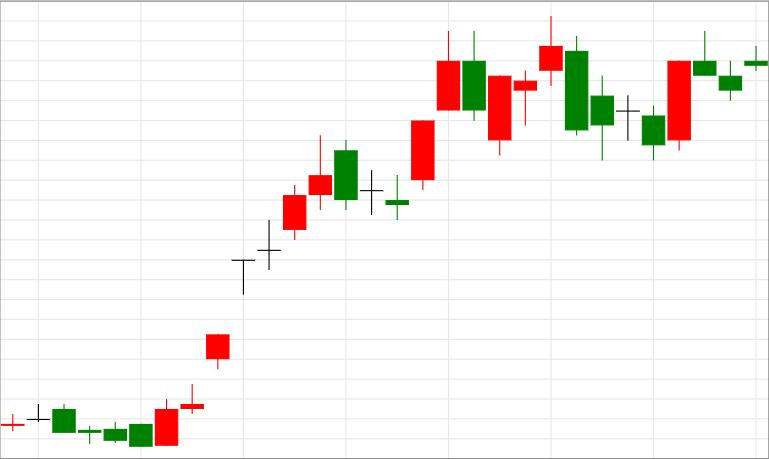shooting_star_fall: (154, 136, 332, 446)
